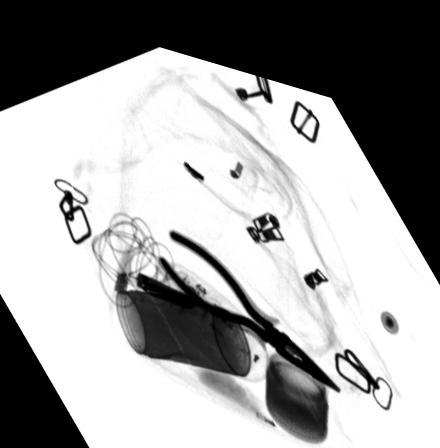Pliers: (153, 217, 345, 374)
